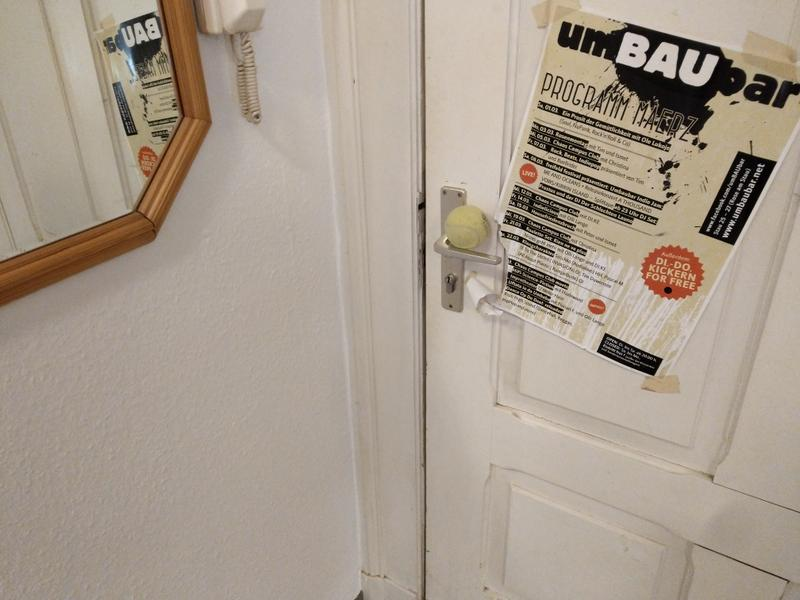Tennisball: (443, 203, 492, 251)
